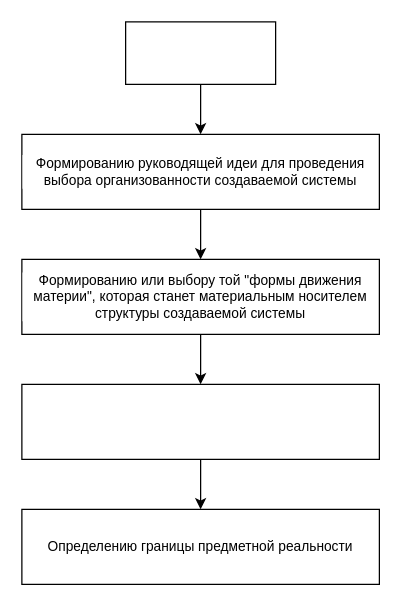
Some shapes in this 401 by 606 pixel diagram are drawn without their labels. The box of each missing label's shape, as (x1, y1, x2, y2) in pixels:
Системный метод сводится к:: (124, 21, 276, 84)
Формулированию решения "проблемы начала": (21, 383, 379, 459)
